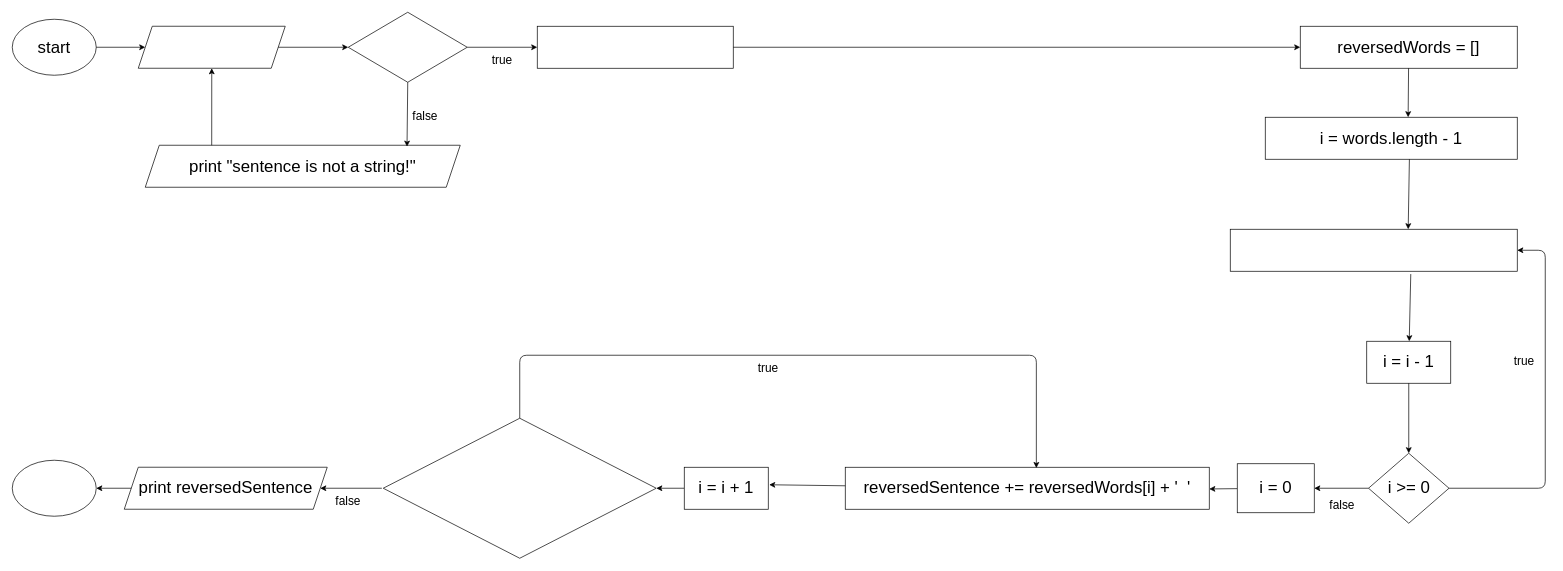
Some shapes in this 1563 by 571 pixel diagram are drawn without their labels. The shapes that lost their labels are listed below. From the top down, each one's centre as x and y in pixels, then its label:
At pixel 211 47: "input variable sentence".
At pixel 407 47: "is a string?".
At pixel 635 47: "words = sentence.split(' ')".
At pixel 1373 250: "reversedWords.push(words[i])".
At pixel 54 488: "end".
At pixel 519 488: "i < reversedWords.length".
